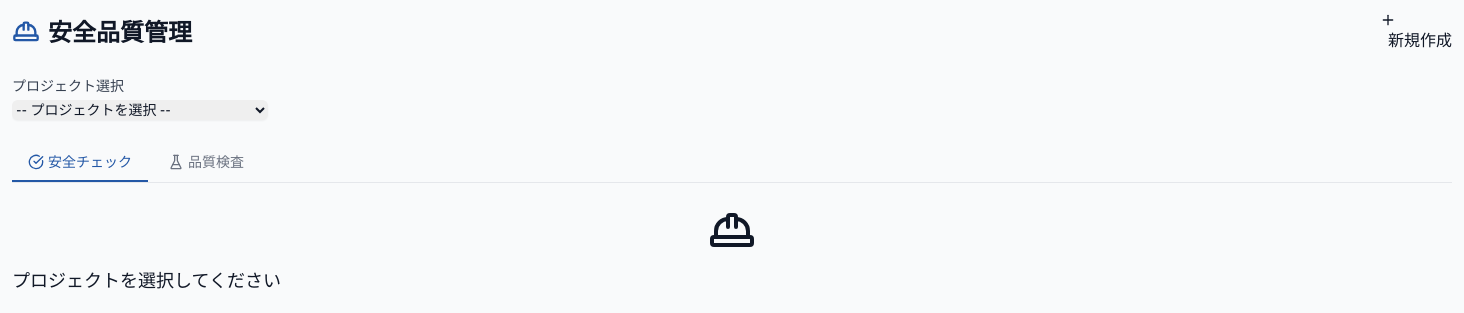
Scenario: SafetyPage › 安全チェックデータが表示される
The image size is (1464, 313).
Select "PC-001 - テスト案件" in the dropdown at coordinates (140, 110), box x1=12 y1=100 x2=268 y2=120
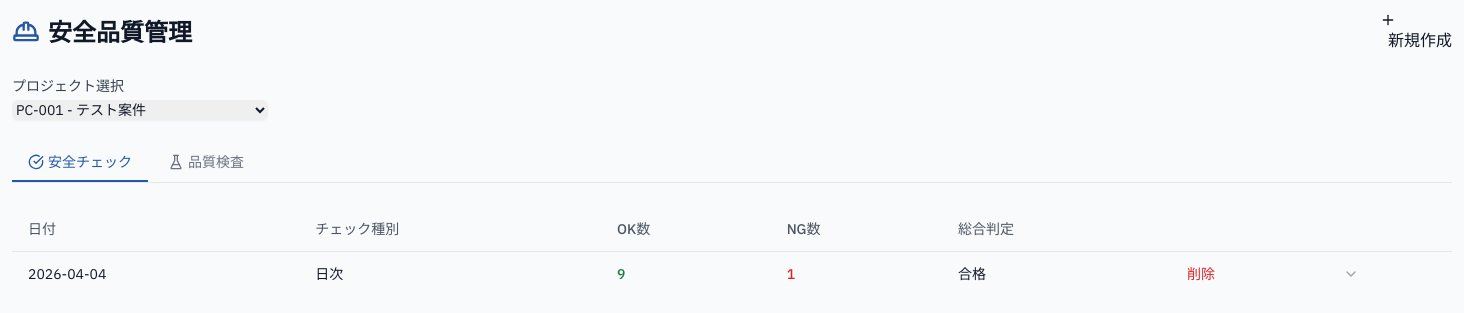
Expected: the text "2026-04-04" is shown, x1=12 y1=252 x2=299 y2=296
Expected: the text "日次" is shown, x1=315 y1=265 x2=343 y2=283
